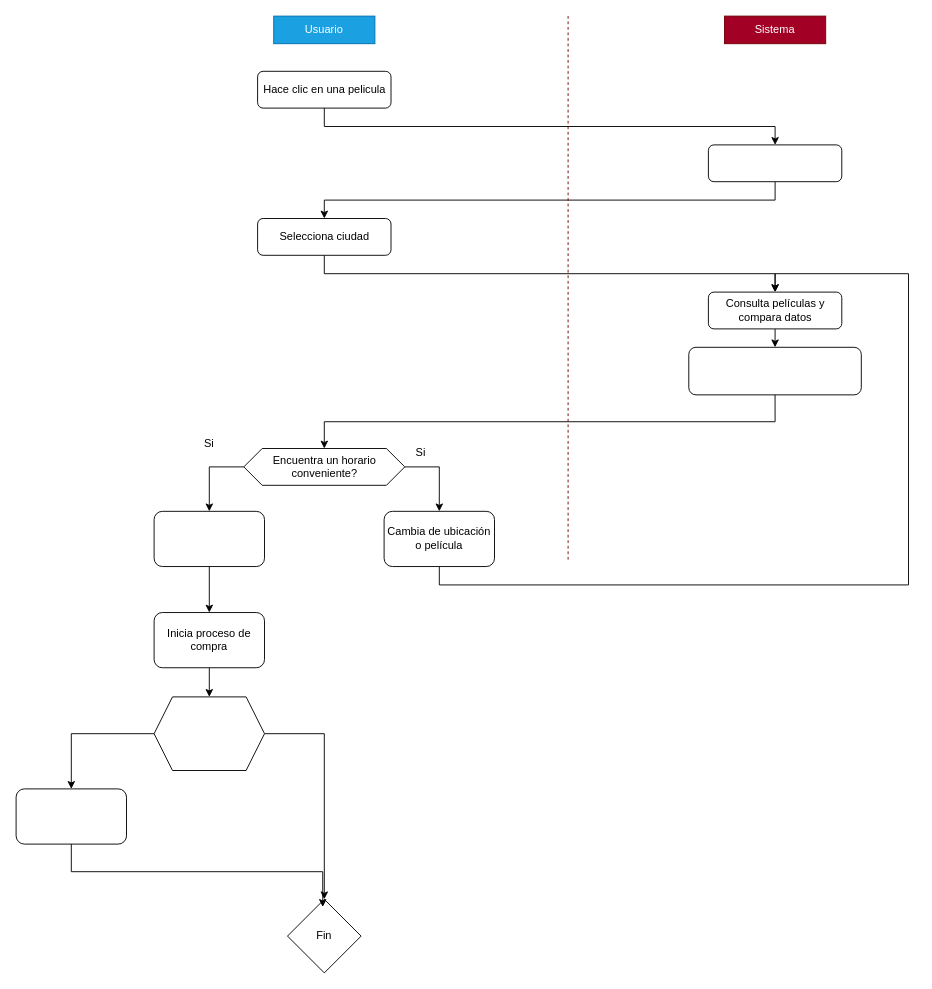
Image size: 932x989. Some labels were removed from this diagram. The shapes that lost their labels are listed below. From the top down, each one's box as (x1, y1, x2, y2) in pixels, then its label:
(707, 144, 842, 182): Pide al usuario su ubicacion
(688, 346, 861, 395): Devuelve cines y horarios en la zona para la película seleccionada
(153, 510, 264, 567): Selecciona un horario en el cine seleccionado
(153, 696, 264, 770): Pago éxitoso?
(15, 788, 126, 844): Usuario recibe boletos
